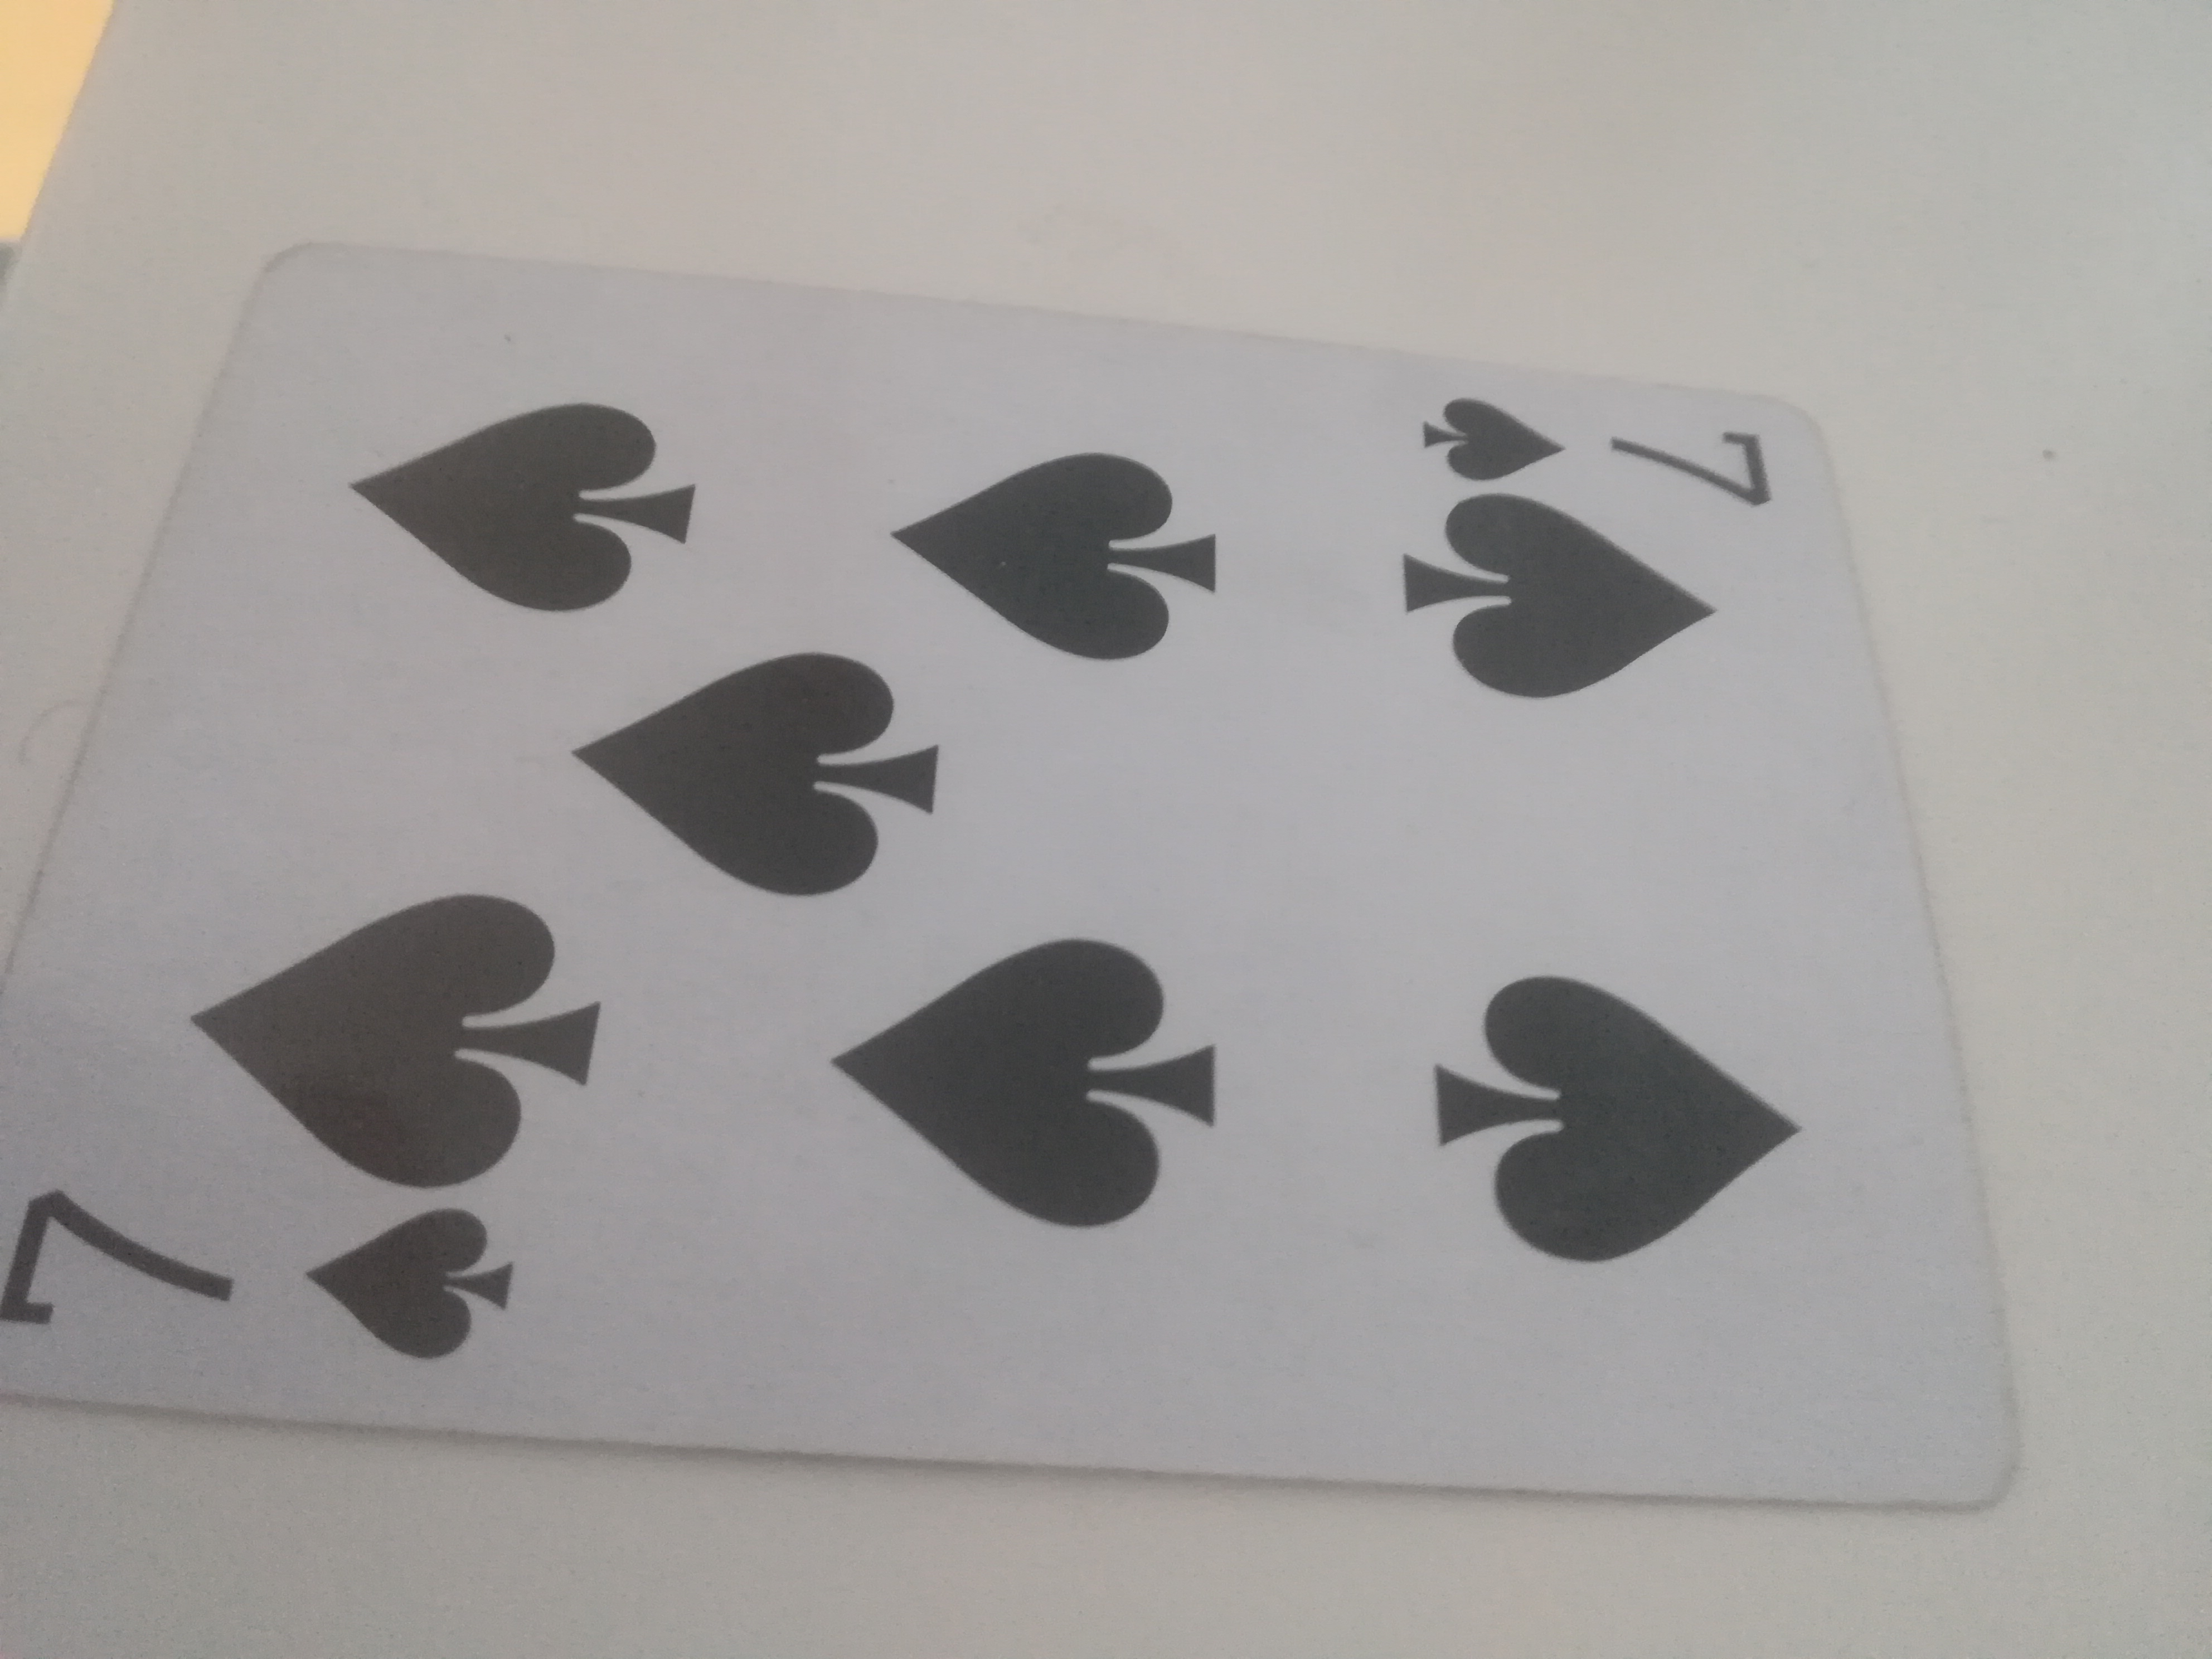7S: (0, 237, 2038, 1530)
